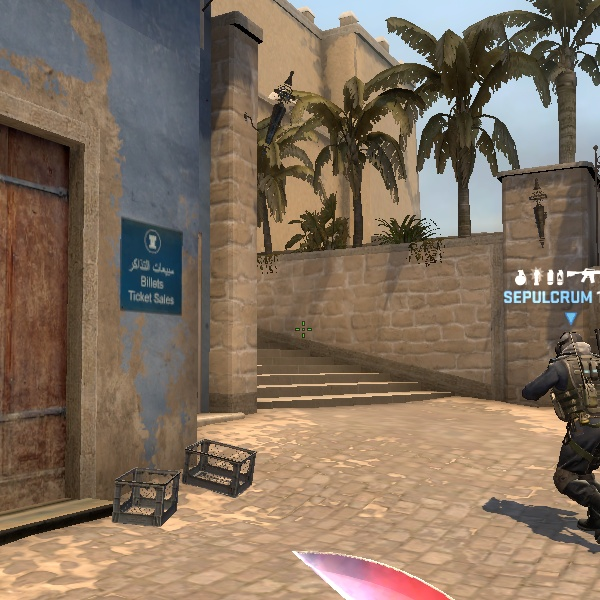ct_body: (522, 328, 598, 545)
ct_head: (547, 325, 592, 370)
